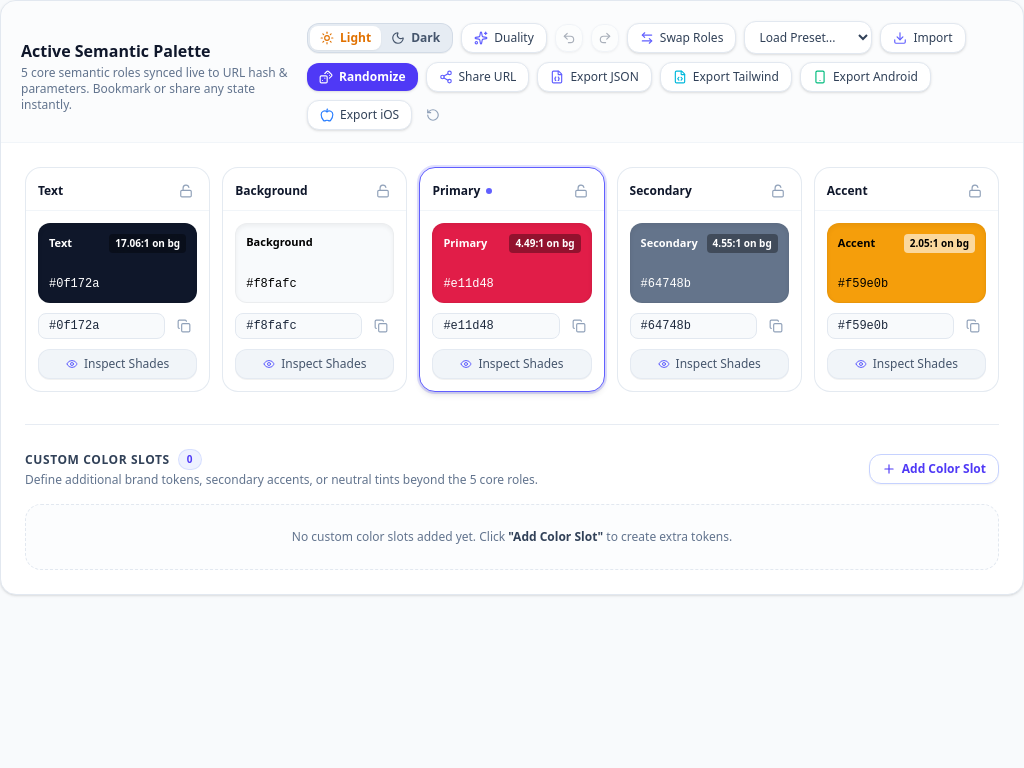
Test: PaletteBar (TT-008) › opens Role Swap modal when clicking Swap Roles button
Click the button with aria-label "Quick role swap" at (682, 38), box left=627, top=22, right=736, bottom=52
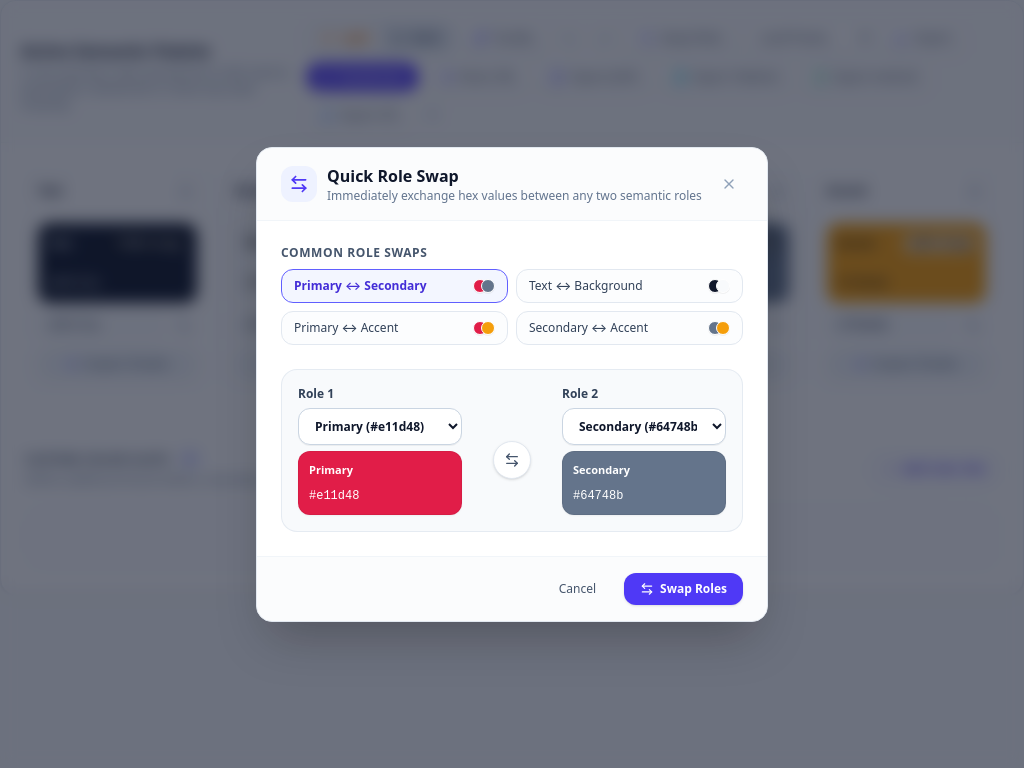
Result: the dialog is shown
Result: the heading "Quick Role Swap" is shown at left=327, top=164, right=459, bottom=186
